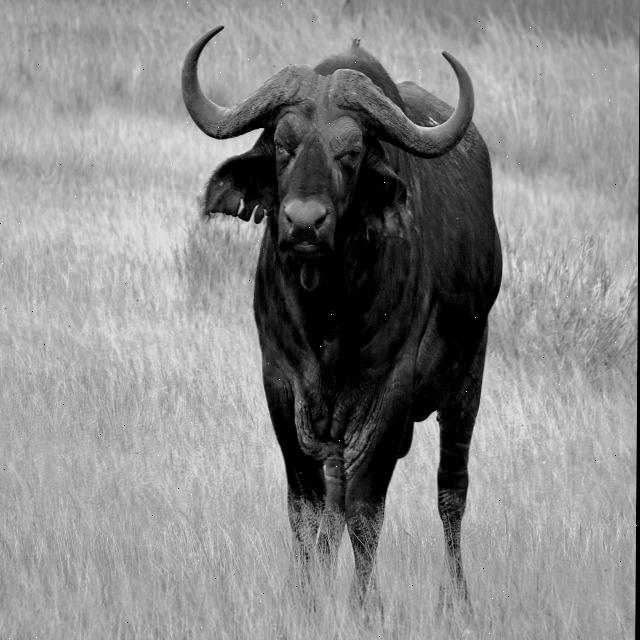Buffalo: (174, 21, 507, 610)
